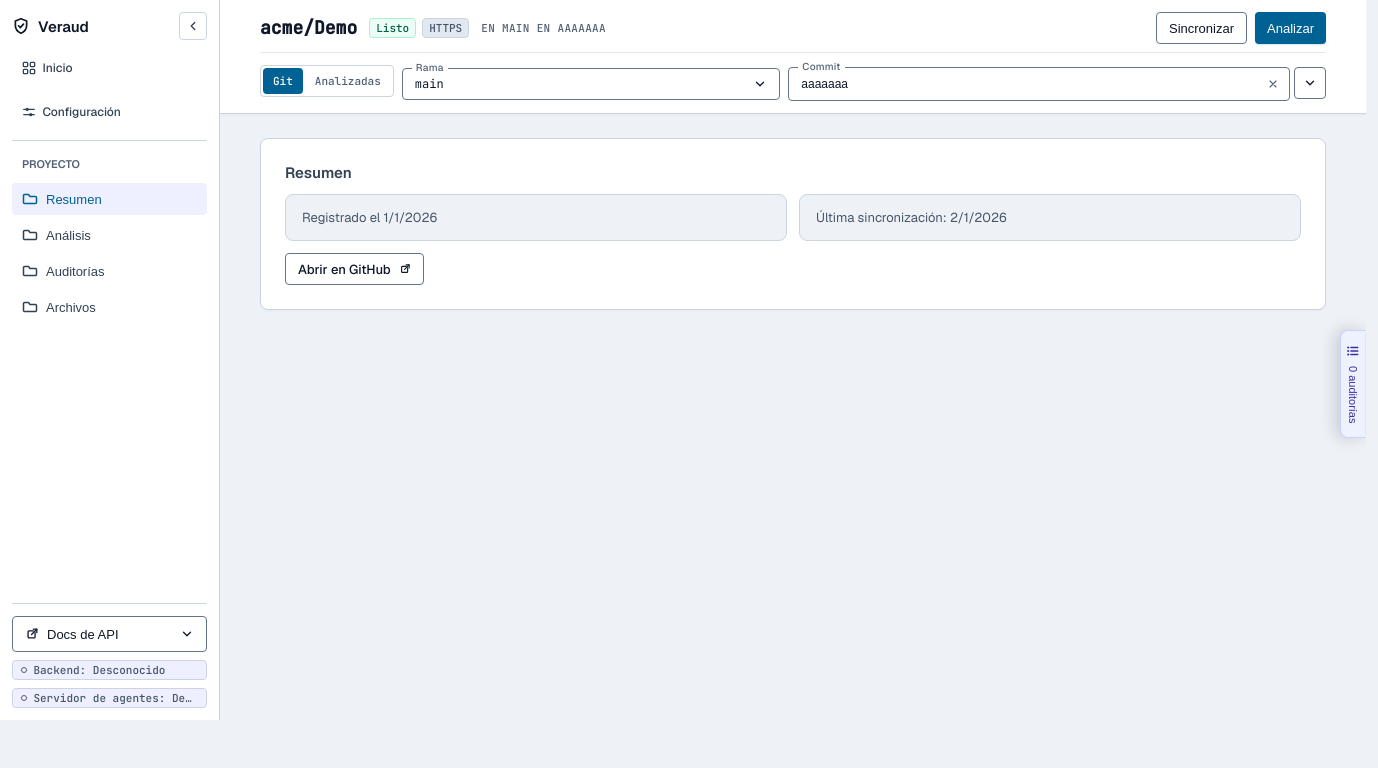
Test case: ProjectDetailPage in Spanish › retains the quality audit workspace under the translated audits navigation
Expected: the heading "acme/Demo" is shown, [260,16,357,40]
Step 1. Click the button "Auditorías" → (110, 271), box [12,255,207,287]
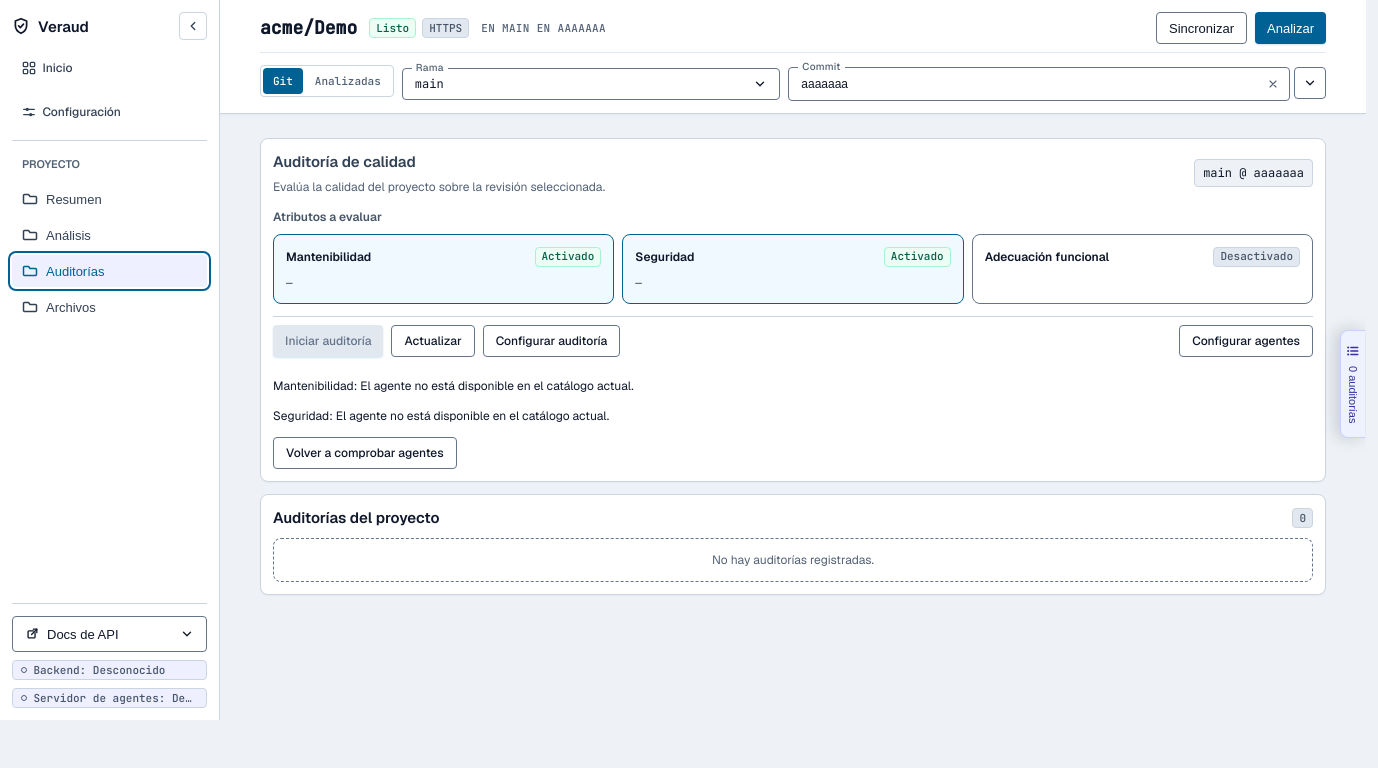
Now the heading "Auditoría de calidad" is shown, box [273,152,416,171]
Now the text "No hay auditorías registradas." is shown, box [273,538,1313,582]
